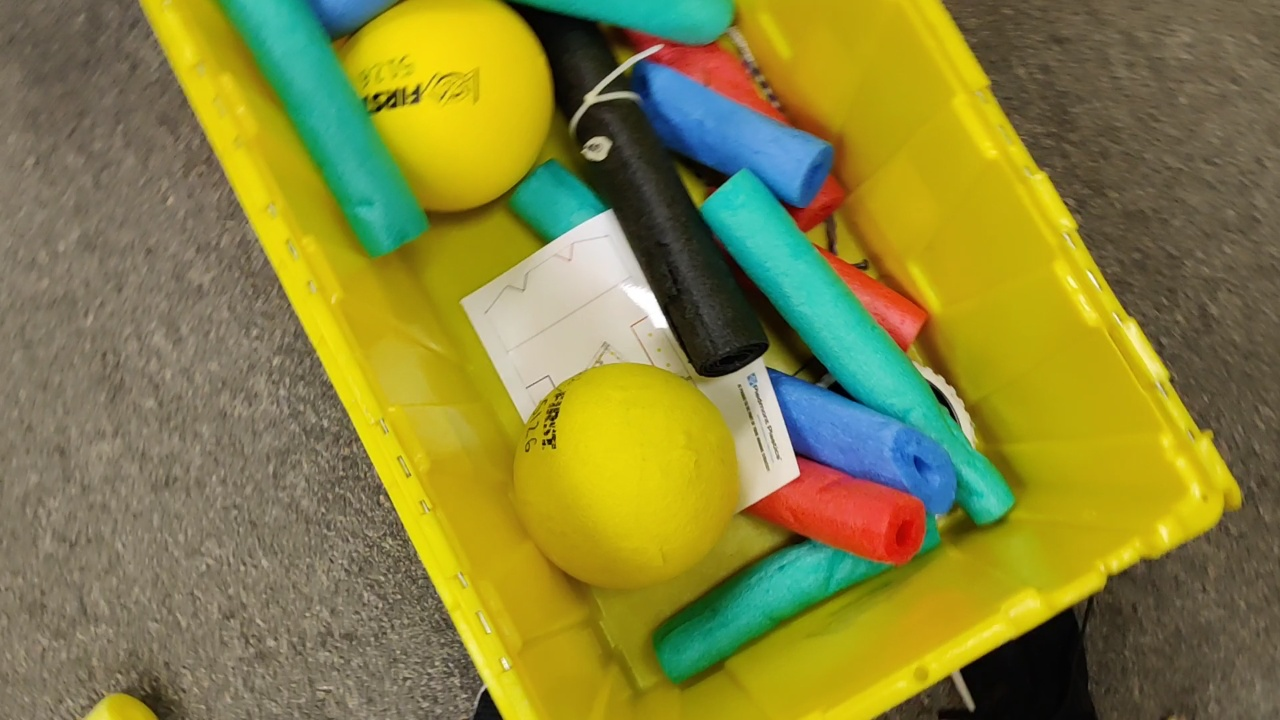Ball: (511, 363, 741, 592), (330, 1, 555, 214)
